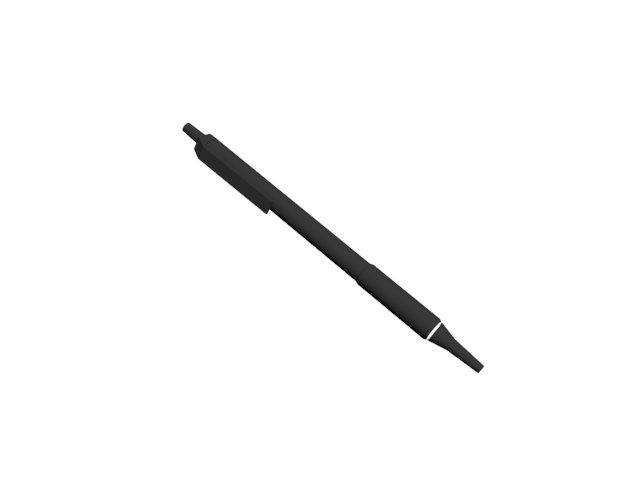pen: (177, 121, 488, 376)
